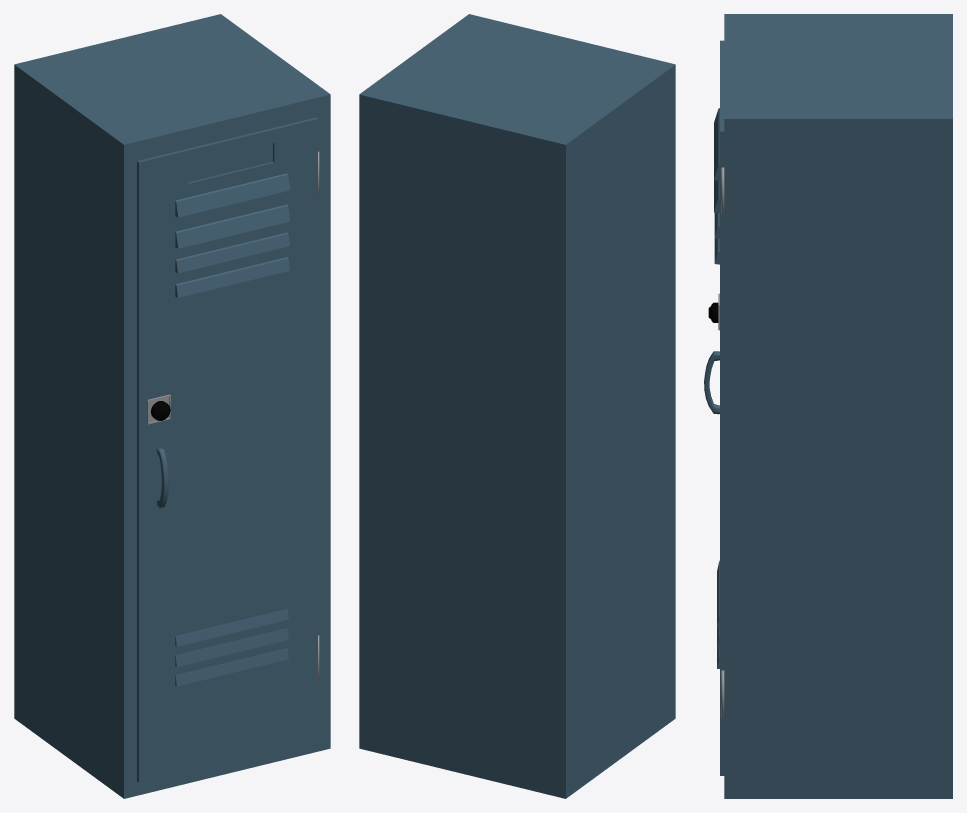
File: LockerBox.fbx
The picture shows the model from 3 angles, left to right: view 1: azimuth 30°, elevation 25°; view 2: azimuth 150°, elevation 25°; view 3: azimuth 270°, elevation 25°; orthographic projection. The views are drawn at different scales.
Visible parts, largest first — view 1: LockerBox; view 2: LockerBox; view 3: LockerBox.
Part boxes in pixels (x1,y1,x2,y2): LockerBox: (14, 14, 330, 798); LockerBox: (359, 14, 675, 798); LockerBox: (704, 14, 952, 798).
Size of the model in its own units: 16.72 by 50.56 by 16.76.
